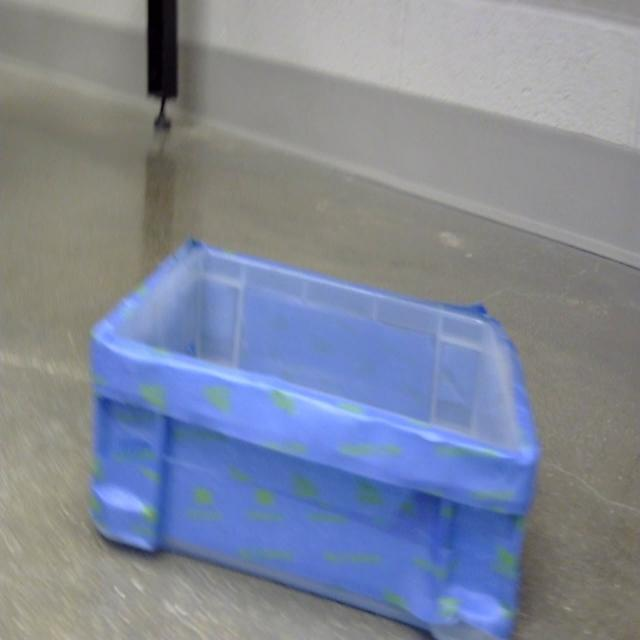bucket: (88, 239, 542, 640)
